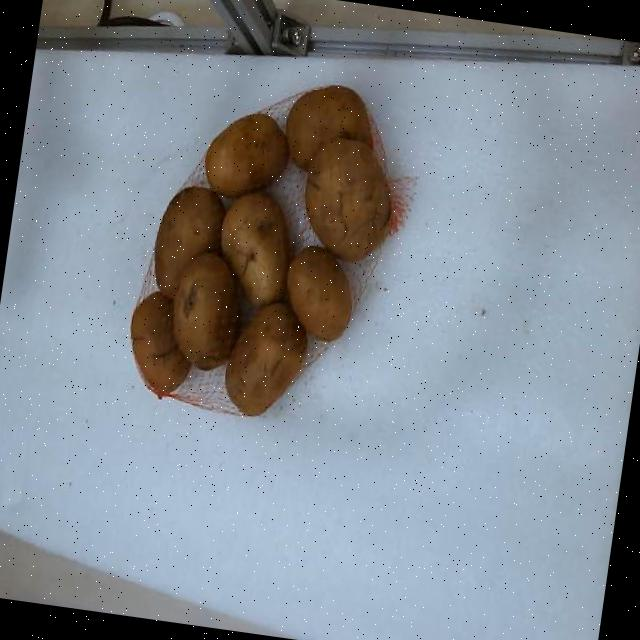potato: (304, 138, 389, 260), (225, 302, 305, 415), (220, 191, 289, 305), (172, 252, 238, 370), (155, 186, 224, 297), (285, 85, 371, 170), (204, 113, 288, 197), (130, 291, 190, 397), (286, 246, 351, 340)
